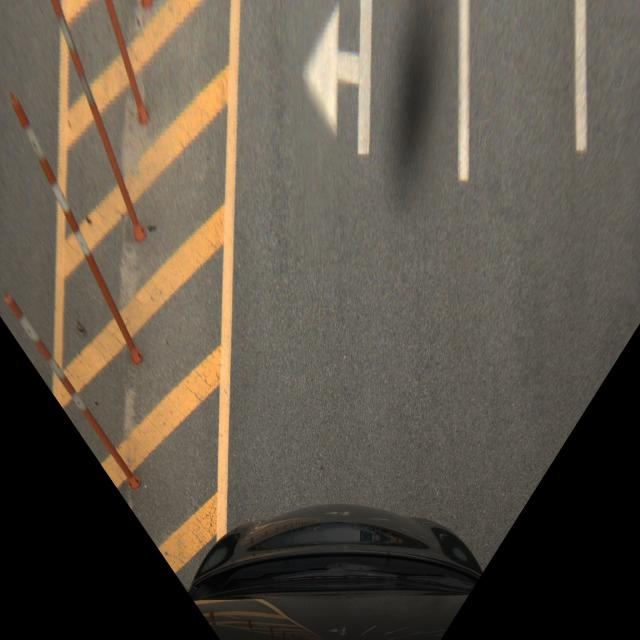forward_left: (232, 0, 468, 202)
